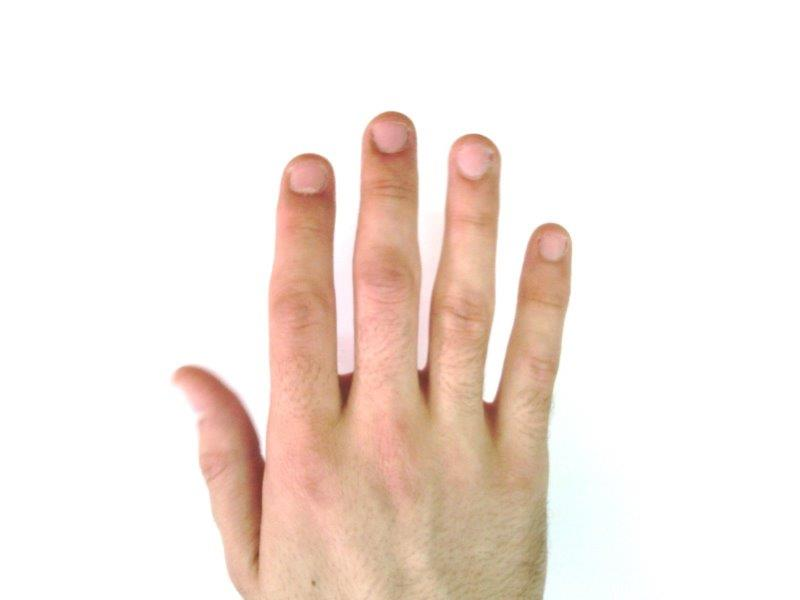hand: (174, 111, 575, 592)
